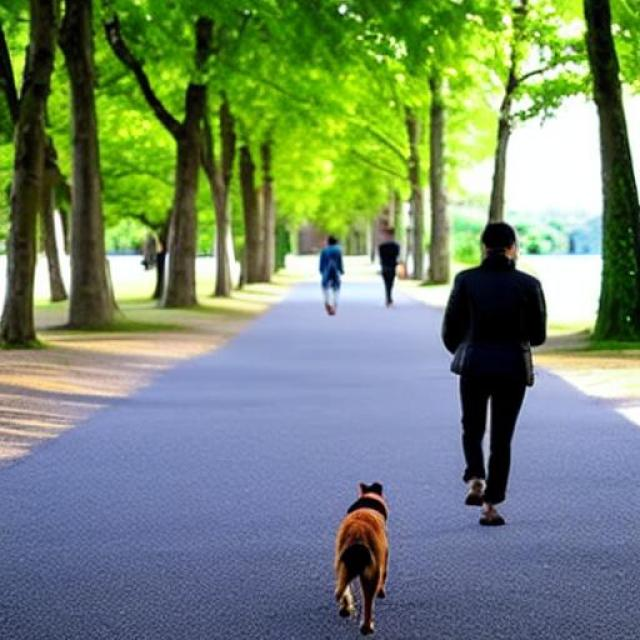Unleashed_Dog: (335, 349, 527, 637)
